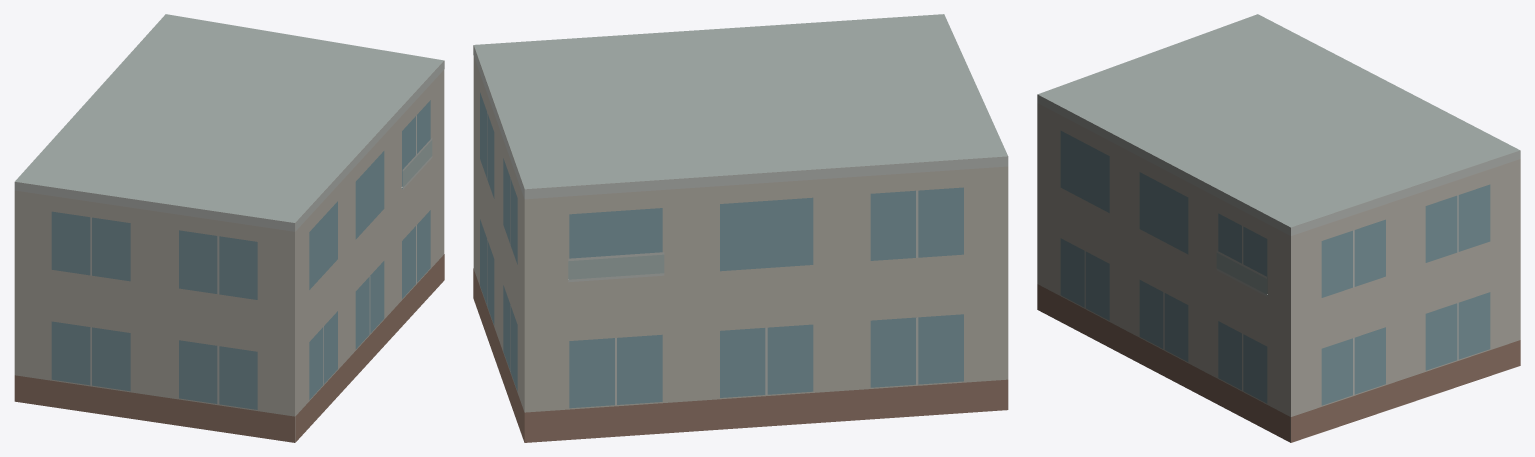
Rendered from survey-upis-32604439.glb.
3 views of the same model, side by side, from view 1: azimuth 30°, elevation 25°; view 2: azimuth 150°, elevation 25°; view 3: azimuth 270°, elevation 25° (orthographic). The views are drawn at different scales.
Parts seen in each view (by area): view 1: survey-upis-32604439.tmp; view 2: survey-upis-32604439.tmp; view 3: survey-upis-32604439.tmp.
Part boxes in pixels (x1,y1,x2,y2): survey-upis-32604439.tmp: [14, 14, 444, 442]; survey-upis-32604439.tmp: [473, 14, 1008, 442]; survey-upis-32604439.tmp: [1037, 14, 1520, 442].
Bounding box in the file's own units: 12.98 × 6.1 × 12.41.
